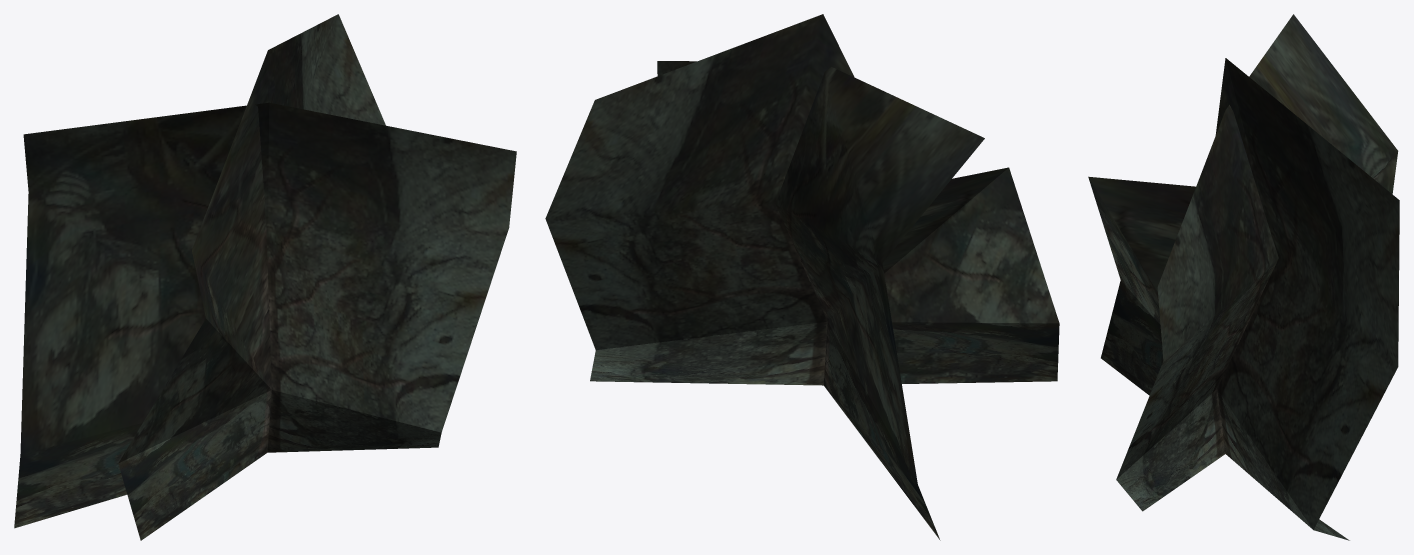
The model's file is M22_Dead_Tree.fbx.
3 views of the same model, side by side, from view 1: azimuth 30°, elevation 25°; view 2: azimuth 150°, elevation 25°; view 3: azimuth 270°, elevation 25° (orthographic). The views are drawn at different scales.
Visible parts, largest first — view 1: DeadTree_model; view 2: DeadTree_model; view 3: DeadTree_model.
Part boxes in pixels (<box>): DeadTree_model: <box>14,14,516,540</box>; DeadTree_model: <box>545,14,1059,540</box>; DeadTree_model: <box>1088,14,1399,540</box>.
Bounding box in the file's own units: 27.32 × 29.42 × 17.63.
